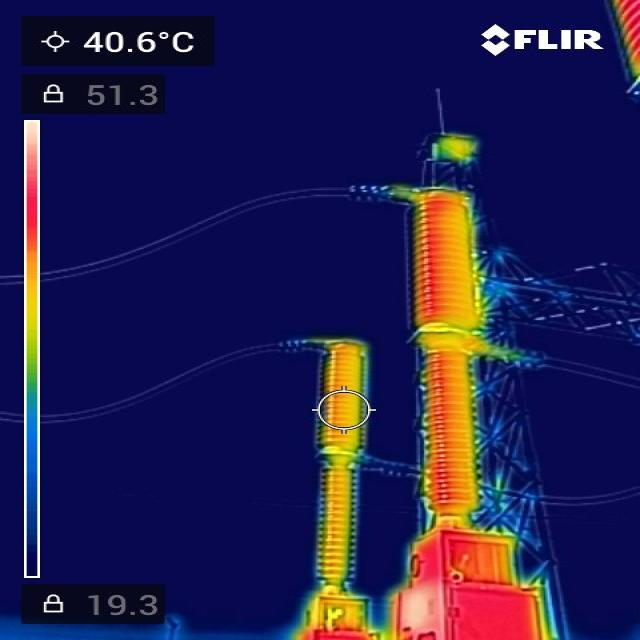Zona_Atenco: (448, 208, 469, 320)
Zona_Critica: (452, 587, 528, 634), (422, 202, 438, 321)
Zona_Extrema: (404, 592, 428, 626)
